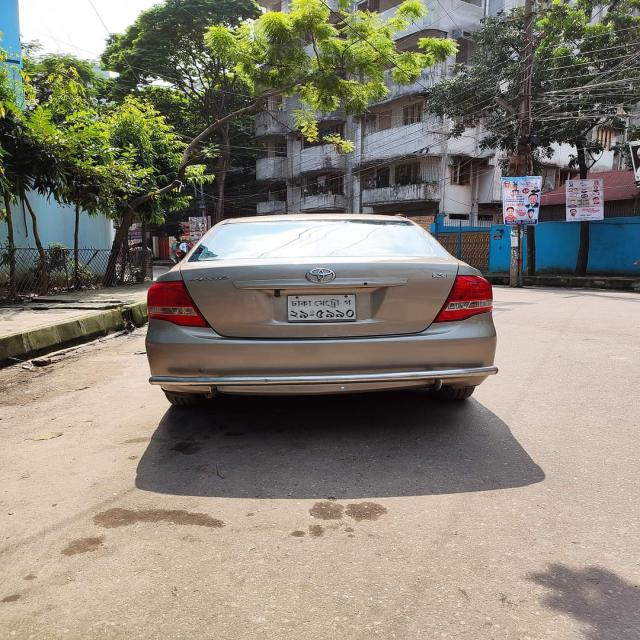silver: (125, 210, 522, 406)
